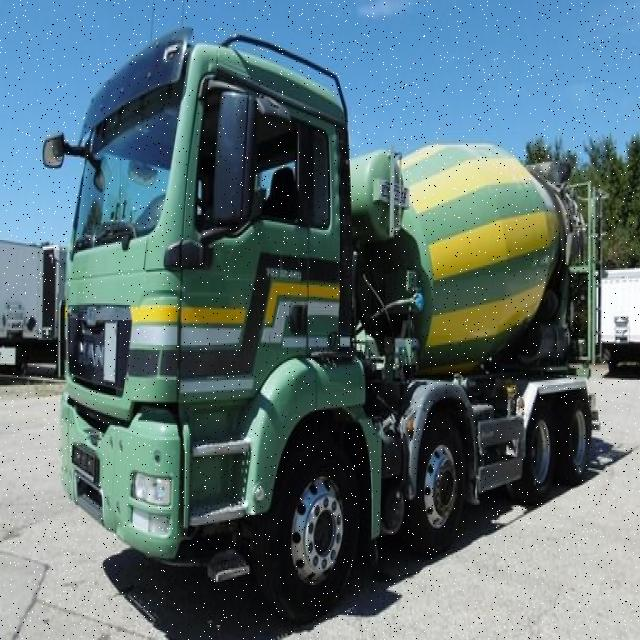Mixer Truck: (59, 28, 609, 620)
